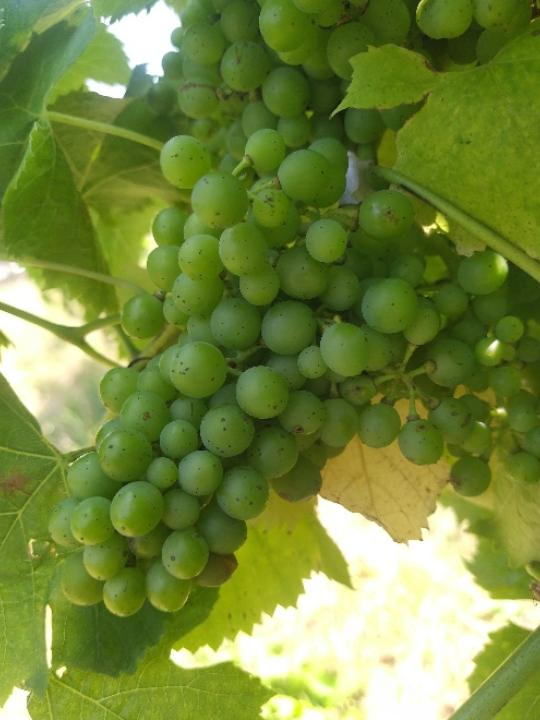grape: (46, 124, 540, 616)
